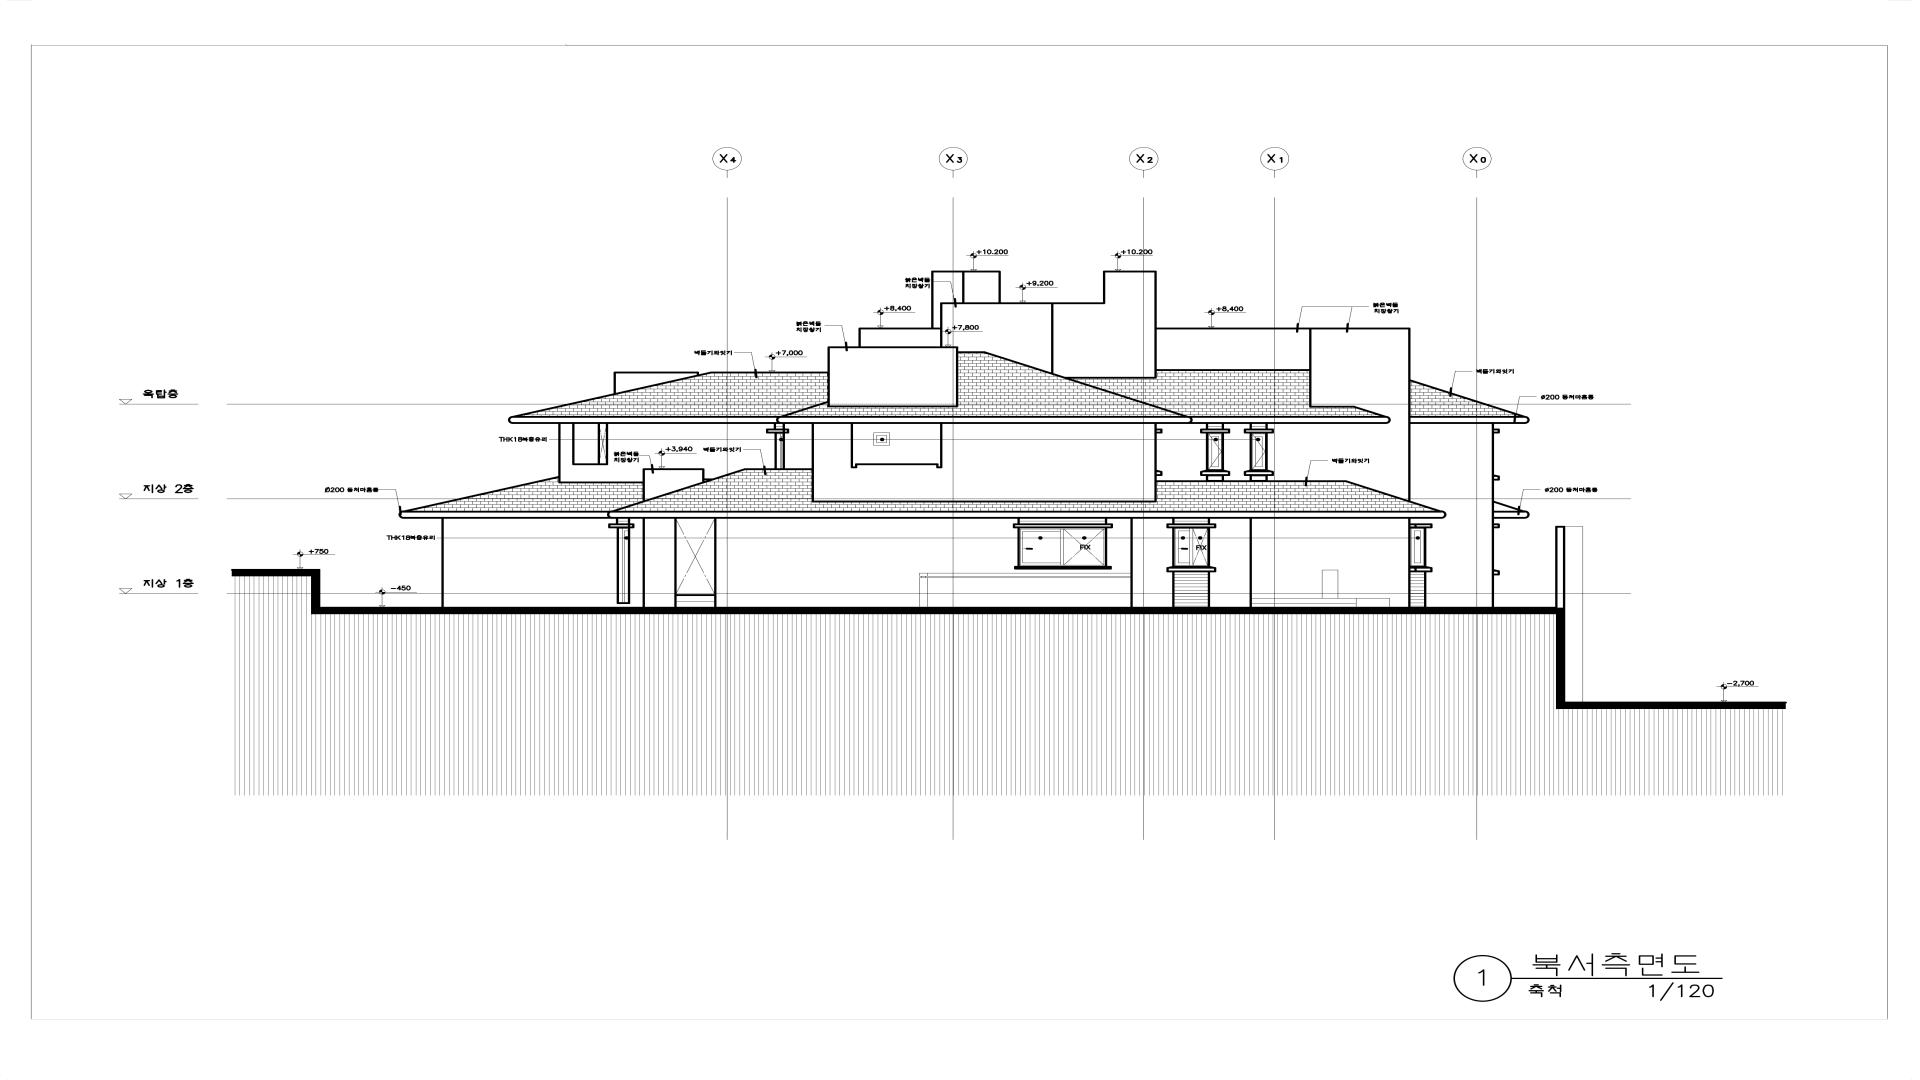wall: (398, 270, 1530, 607)
window: (676, 519, 714, 594), (1020, 529, 1063, 565), (1063, 529, 1105, 565), (572, 424, 608, 465), (617, 528, 630, 604), (1172, 528, 1193, 565), (1249, 433, 1268, 470), (1408, 528, 1426, 566), (1206, 433, 1224, 470), (1193, 529, 1210, 565), (774, 434, 785, 468), (873, 432, 890, 445)
